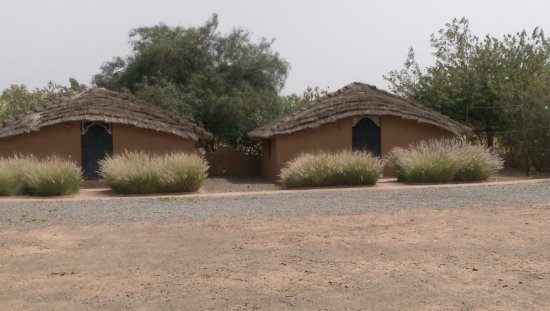Mud House: (247, 78, 480, 183), (5, 89, 207, 194)
